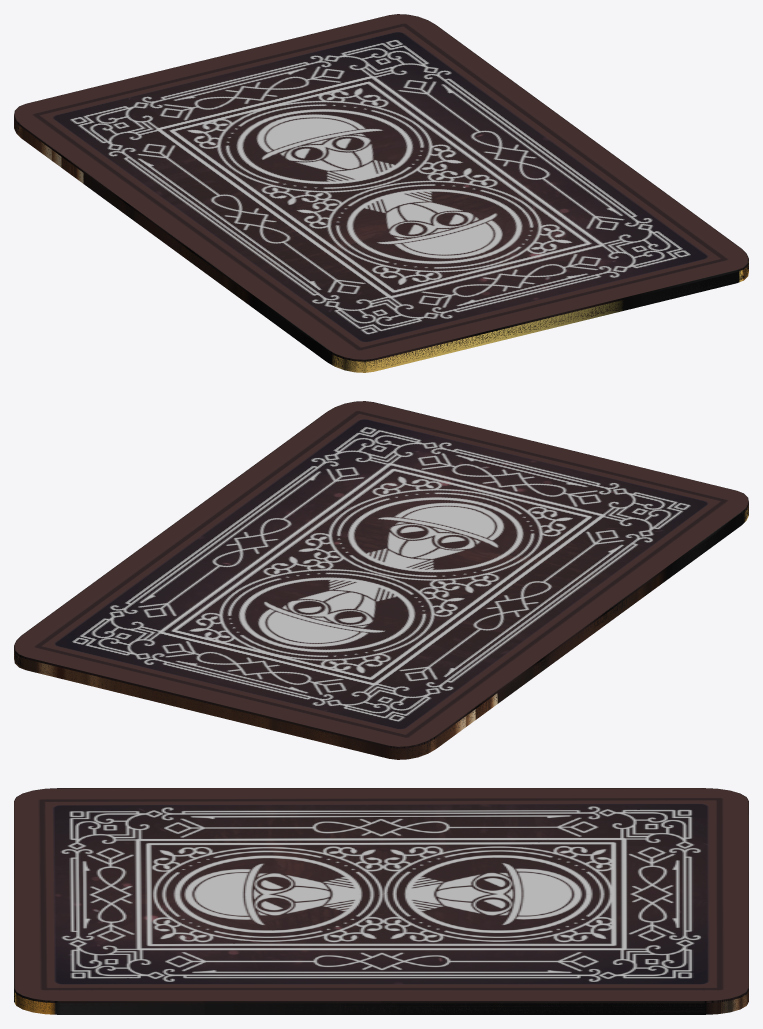
File: sixof_wands_tarot.glb
3 views of the same model, one above another, from view 1: azimuth 30°, elevation 25°; view 2: azimuth 150°, elevation 25°; view 3: azimuth 270°, elevation 25° (orthographic). The views are drawn at different scales.
Parts seen in each view (by area): view 1: Plane.002, Plane.001; view 2: Plane.002, Plane.001; view 3: Plane.002, Plane.001.
Part boxes in pixels (x1,y1,x2,y2): Plane.002: (14, 14, 748, 370); Plane.001: (14, 118, 748, 372); Plane.002: (14, 401, 748, 756); Plane.001: (14, 505, 748, 759); Plane.002: (14, 788, 748, 1012); Plane.001: (14, 990, 748, 1014).
Size of the model in its own units: 2.28 by 0.0684 by 3.32.
2 materials, 2 textured.
